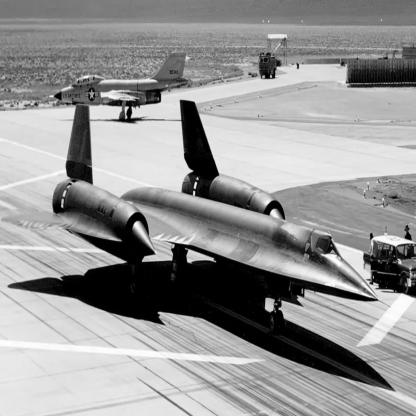F4: (50, 52, 190, 122)
SR71: (1, 100, 392, 337)
